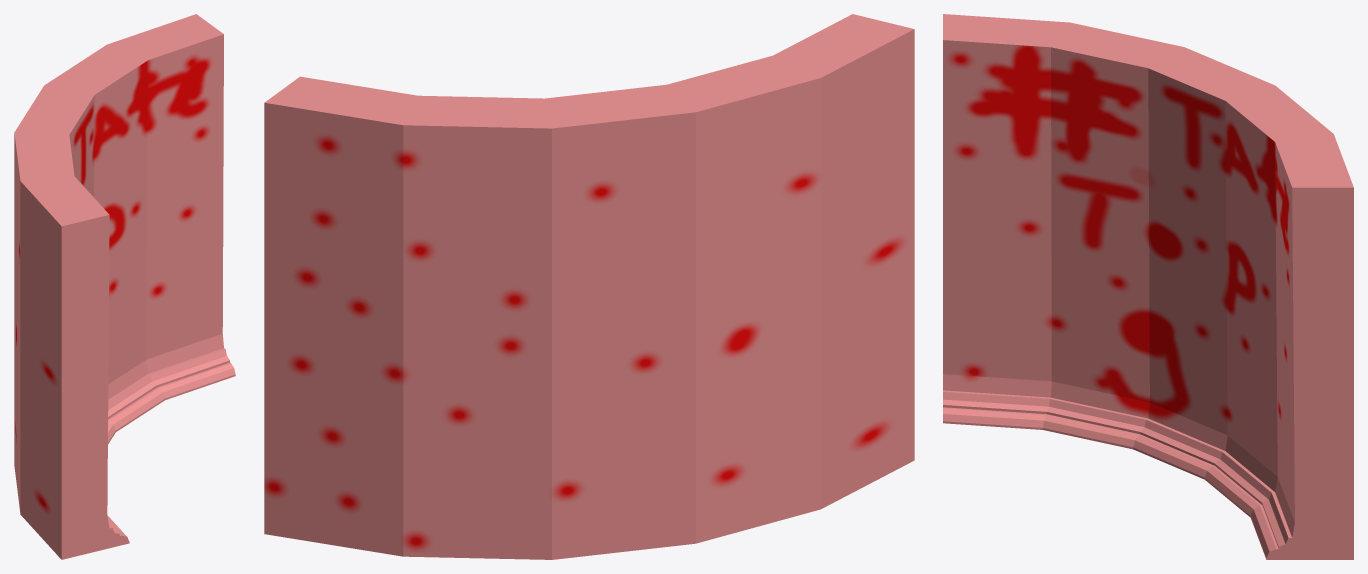
File: uv mapped concave wall.fbx
3 renders of one model, left to right at view 1: azimuth 30°, elevation 25°; view 2: azimuth 150°, elevation 25°; view 3: azimuth 270°, elevation 25°, orthographic. The views are drawn at different scales.
Visible parts, largest first — view 1: Concave Wall; view 2: Concave Wall; view 3: Concave Wall.
Part boxes in pixels (x1,y1,x2,y2): Concave Wall: (14, 14, 235, 559); Concave Wall: (264, 14, 914, 559); Concave Wall: (943, 14, 1353, 559).
Size of the model in its own units: 100 by 100 by 100.
